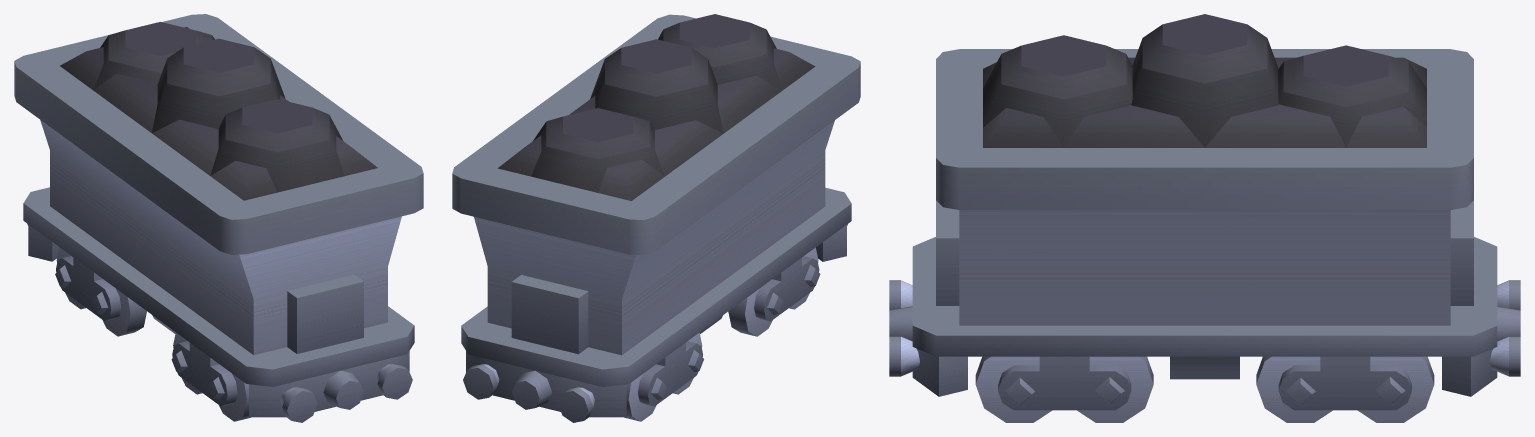
The model's file is train-carriage-coal.glb.
3 views of the same model, side by side, from view 1: azimuth 30°, elevation 25°; view 2: azimuth 150°, elevation 25°; view 3: azimuth 270°, elevation 25° (orthographic). The views are drawn at different scales.
Visible parts, largest first — view 1: train-carriage-coal, cargo, wheels-back, wheels-front; view 2: train-carriage-coal, cargo, wheels-front, wheels-back; view 3: train-carriage-coal, cargo, wheels-front, wheels-back.
Boxes of the visible parts, x1,y1,x2,y2 form: train-carriage-coal: (14, 14, 423, 422); cargo: (60, 22, 377, 200); wheels-back: (55, 247, 146, 336); wheels-front: (171, 332, 250, 421); train-carriage-coal: (452, 14, 860, 422); cargo: (497, 14, 815, 200); wheels-front: (728, 247, 820, 336); wheels-back: (624, 332, 703, 421); train-carriage-coal: (889, 49, 1520, 396); cargo: (983, 14, 1426, 147); wheels-front: (975, 356, 1153, 422); wheels-back: (1256, 356, 1434, 422).
Bounding box in the file's own units: 1.2 × 1.65 × 2.7.
Materials: 1 (1 with a texture image).
